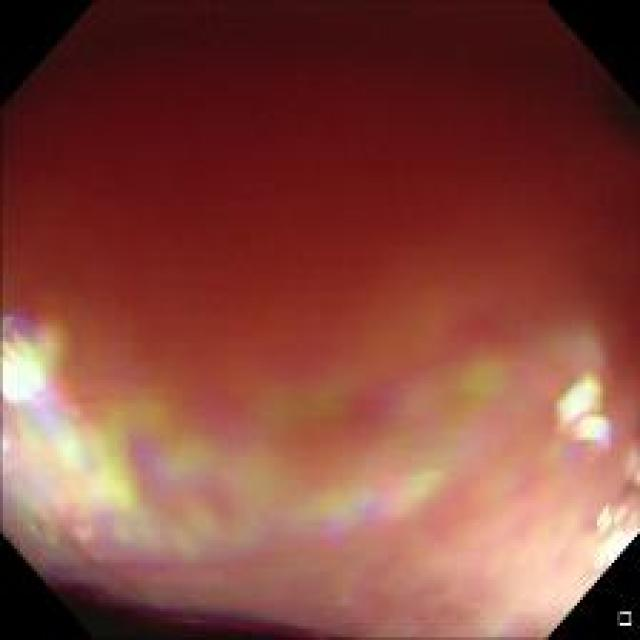color misalignment: (10, 11, 619, 631), (6, 320, 620, 558)
contrast: (44, 570, 301, 631)
